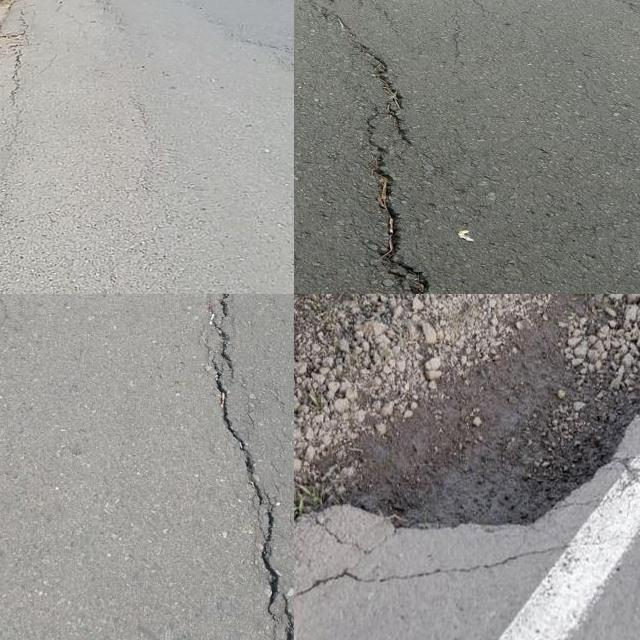Memanjang: (314, 0, 439, 294), (195, 294, 294, 640)
Pinggir: (304, 294, 640, 534)
